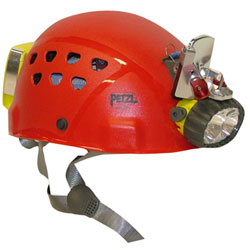helmet: (15, 25, 235, 147)
